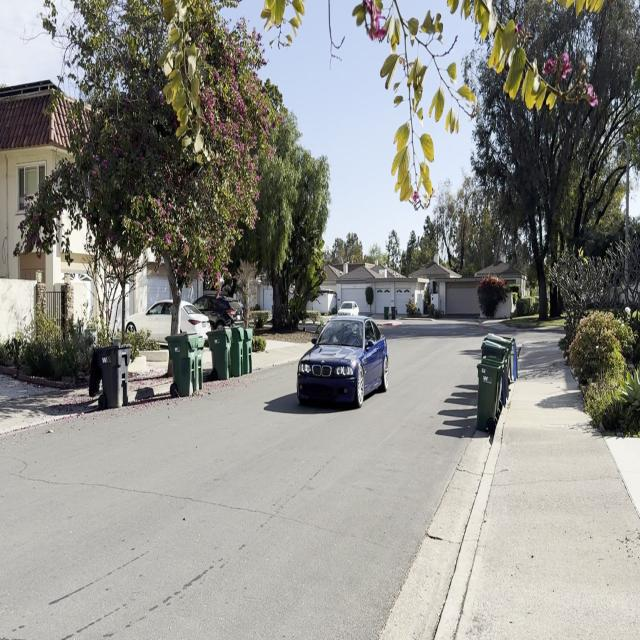Carbeetle: (292, 307, 394, 415)
